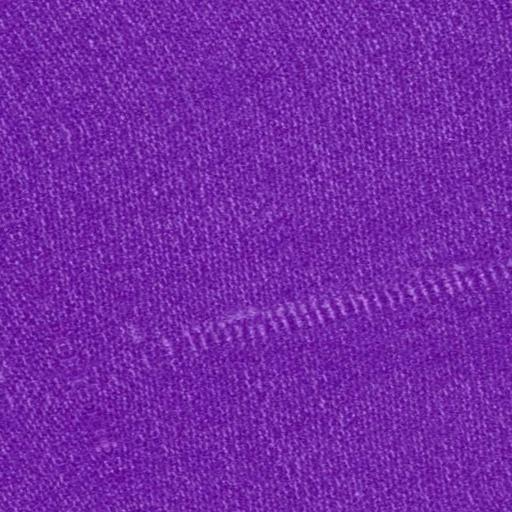slub: (158, 258, 512, 369)
